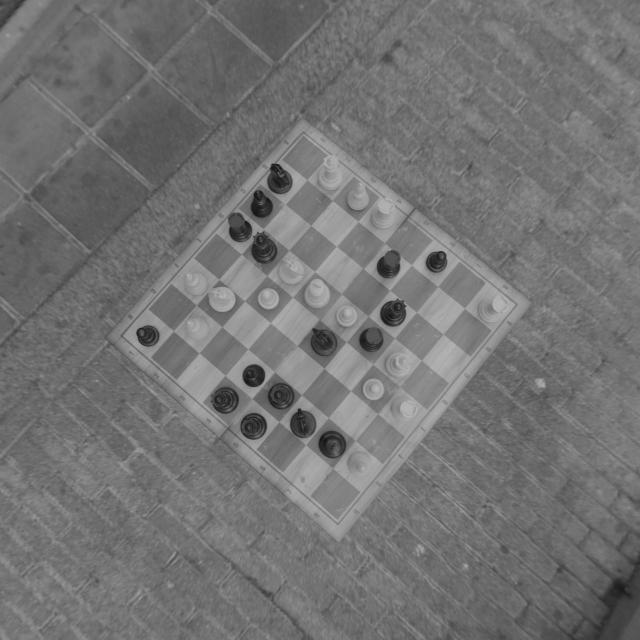chessboard: (125, 135, 515, 521)
